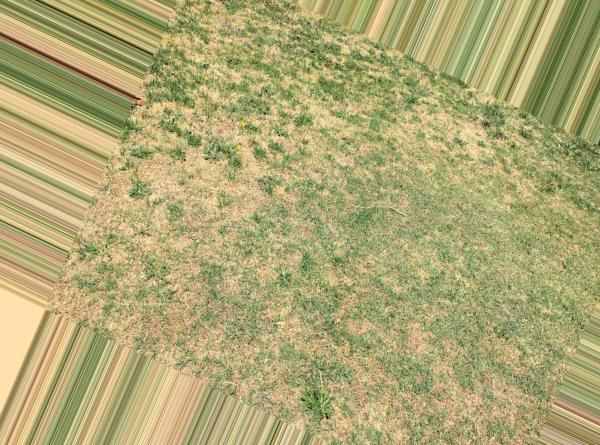patch: (280, 338, 409, 424), (192, 143, 264, 227), (111, 203, 165, 297)
